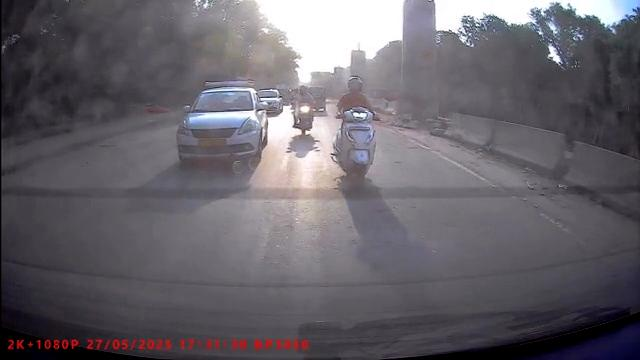motorcycle_with_helmet: (331, 74, 379, 185), (291, 84, 316, 135)
